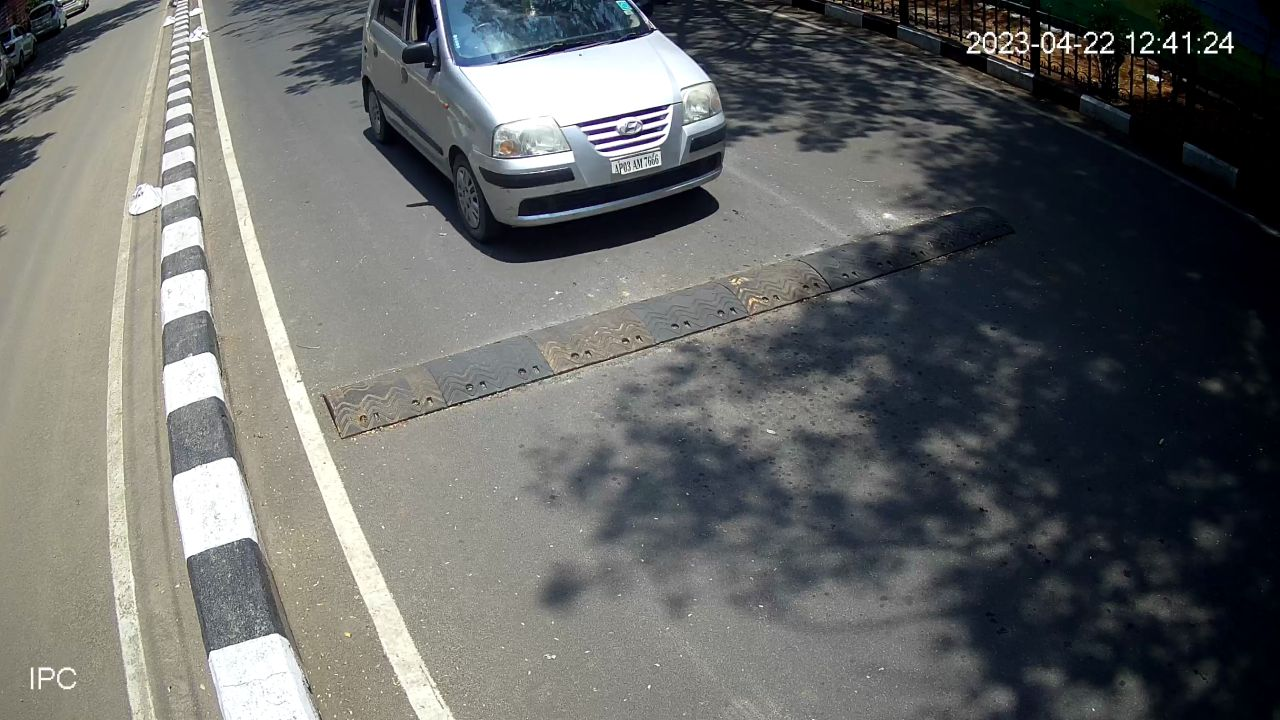license_plate: (603, 144, 665, 178)
